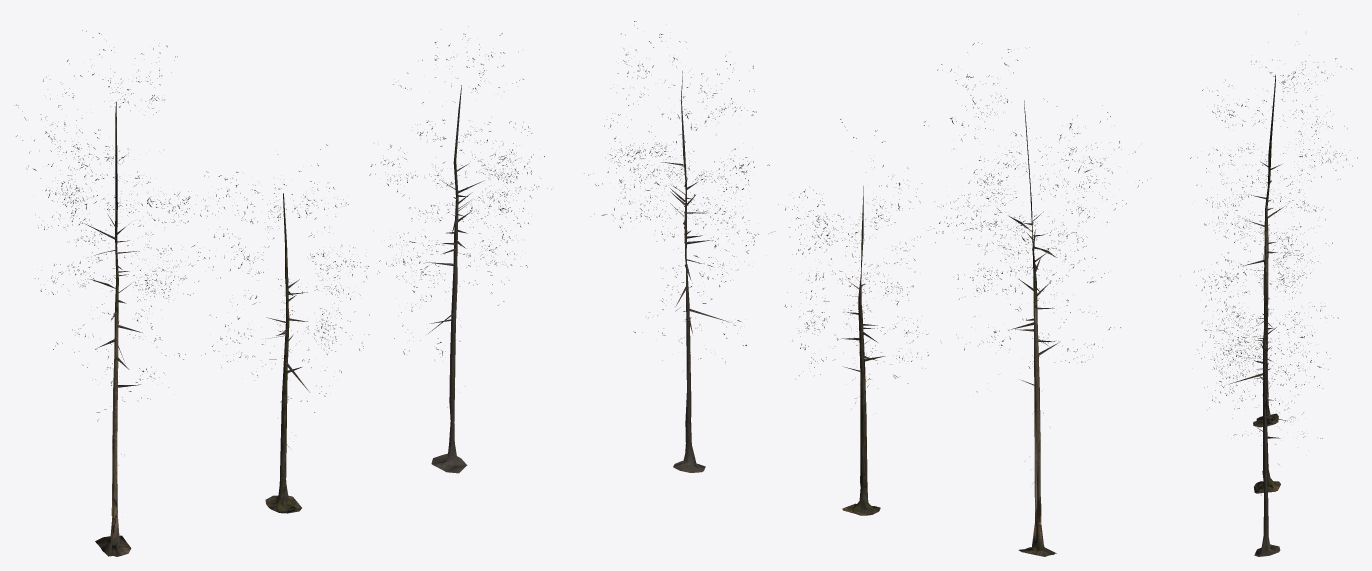
Rendered from pine_tree_01.light.glb.
3 views of the same model, side by side, from view 1: azimuth 30°, elevation 25°; view 2: azimuth 150°, elevation 25°; view 3: azimuth 270°, elevation 25° (orthographic). The views are drawn at different scales.
Visible parts, largest first — view 1: pine_tree_01_a_LOD0, pine_tree_01_c_LOD0, pine_tree_01_b_LOD0; view 2: pine_tree_01_a_LOD0, pine_tree_01_c_LOD0, pine_tree_01_b_LOD0; view 3: pine_tree_01_c_LOD0, pine_tree_01_a_LOD0, pine_tree_01_b_LOD0.
Part boxes in pixels (<box>): pine_tree_01_a_LOD0: <box>16,30,225,556</box>; pine_tree_01_c_LOD0: <box>369,26,553,473</box>; pine_tree_01_b_LOD0: <box>199,144,380,513</box>; pine_tree_01_a_LOD0: <box>924,42,1147,556</box>; pine_tree_01_c_LOD0: <box>584,21,775,472</box>; pine_tree_01_b_LOD0: <box>778,119,941,515</box>; pine_tree_01_c_LOD0: <box>1196,223,1338,556</box>; pine_tree_01_a_LOD0: <box>1190,14,1357,427</box>; pine_tree_01_b_LOD0: <box>1193,203,1332,493</box>.
Size of the model in its own units: 3.88 by 3.7 by 1.47.
6 materials, 6 textured.
